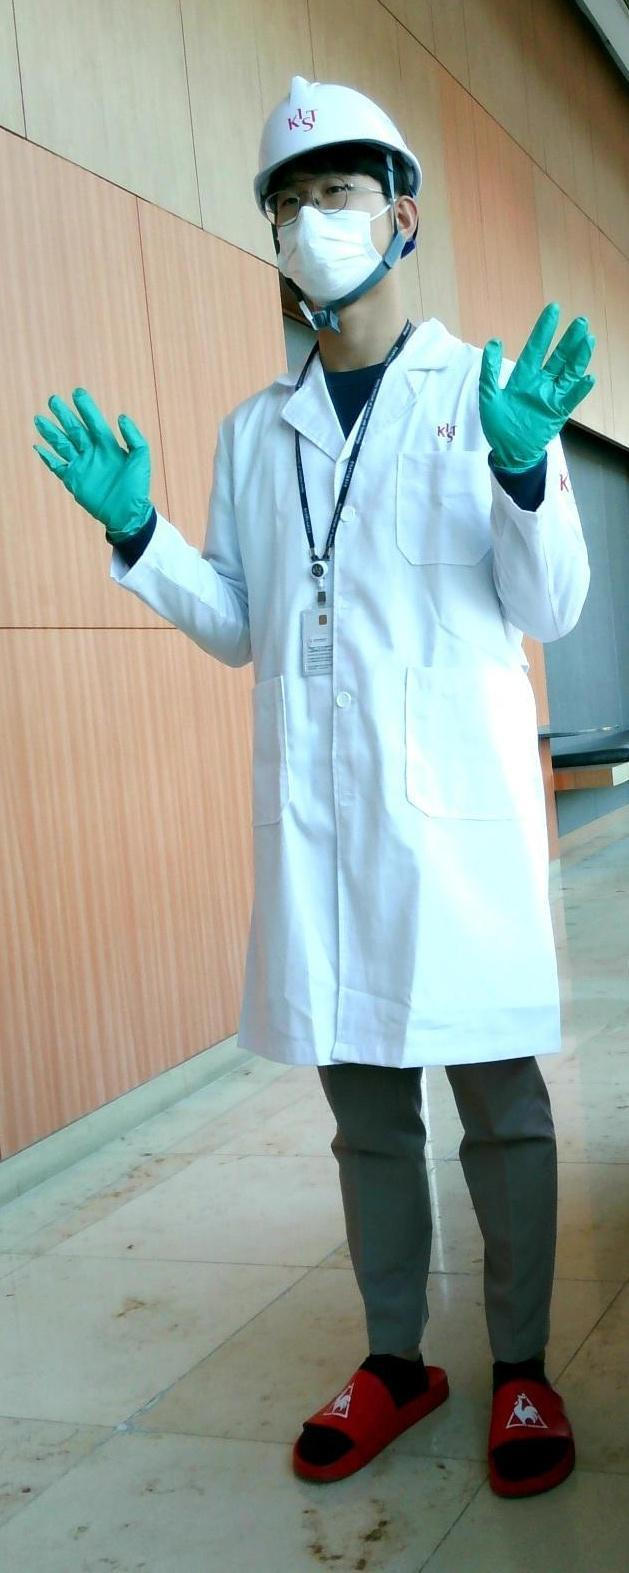lab_coat: (171, 370, 512, 1053)
